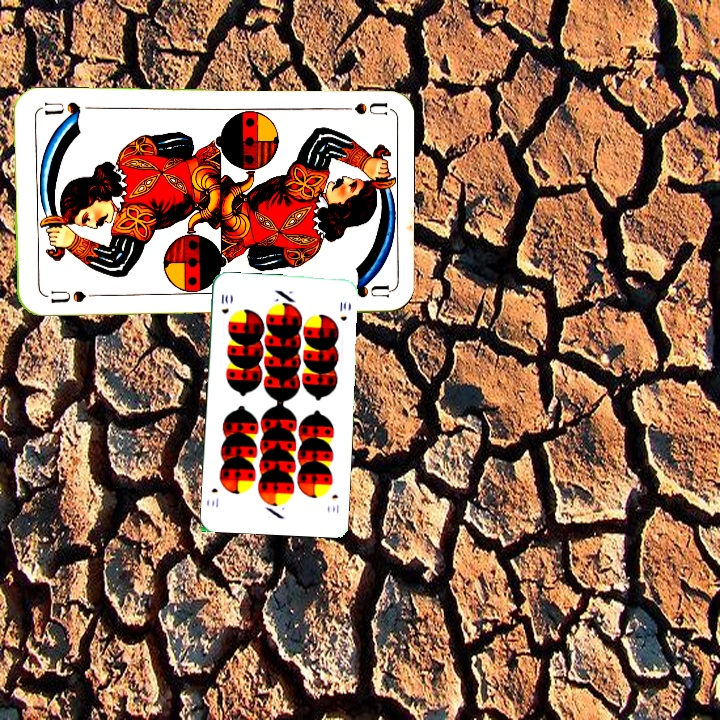S10: (217, 290, 231, 316), (328, 490, 341, 516)
SU: (329, 99, 388, 118), (38, 286, 88, 305)
